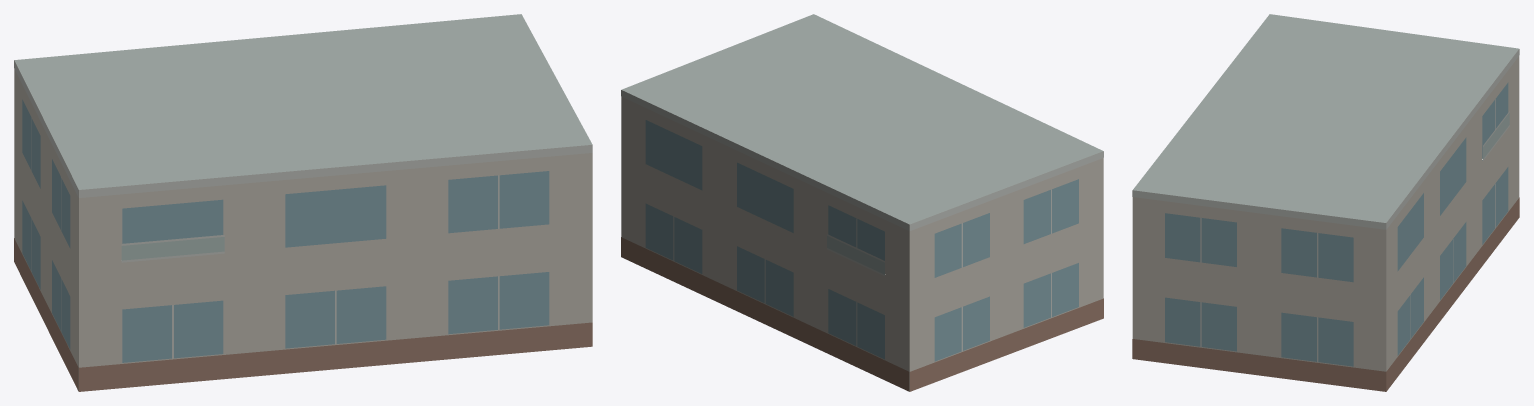
The model's file is survey-upis-32874431.glb.
The picture shows the model from 3 angles, left to right: view 1: azimuth 30°, elevation 25°; view 2: azimuth 150°, elevation 25°; view 3: azimuth 270°, elevation 25°; orthographic projection. The views are drawn at different scales.
Visible parts, largest first — view 1: survey-upis-32874431.tmp; view 2: survey-upis-32874431.tmp; view 3: survey-upis-32874431.tmp.
Boxes of the visible parts, bbox=[...] form: survey-upis-32874431.tmp: bbox=[14, 14, 592, 391]; survey-upis-32874431.tmp: bbox=[621, 14, 1103, 391]; survey-upis-32874431.tmp: bbox=[1132, 14, 1519, 391].
Bounding box in the file's own units: 16.22 × 6.1 × 12.69.
